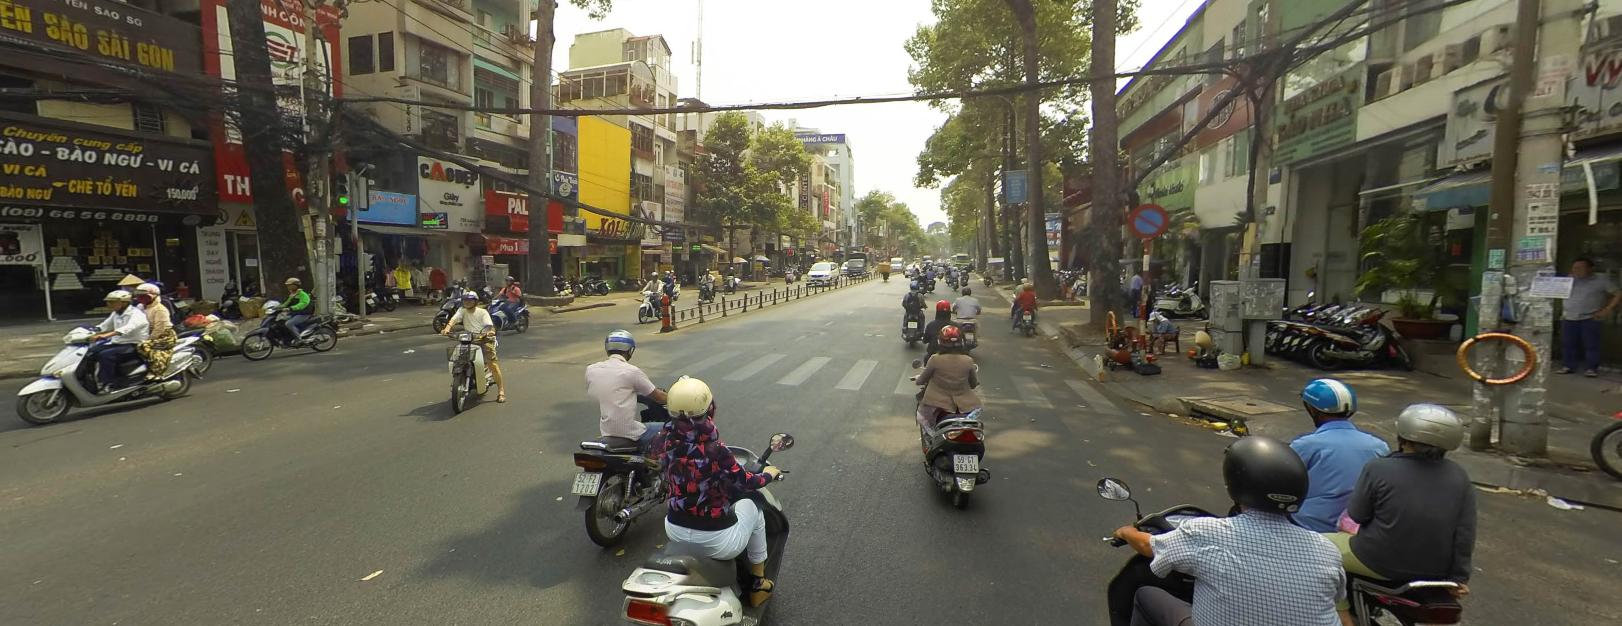Cam dung va do: (1128, 200, 1170, 237)
